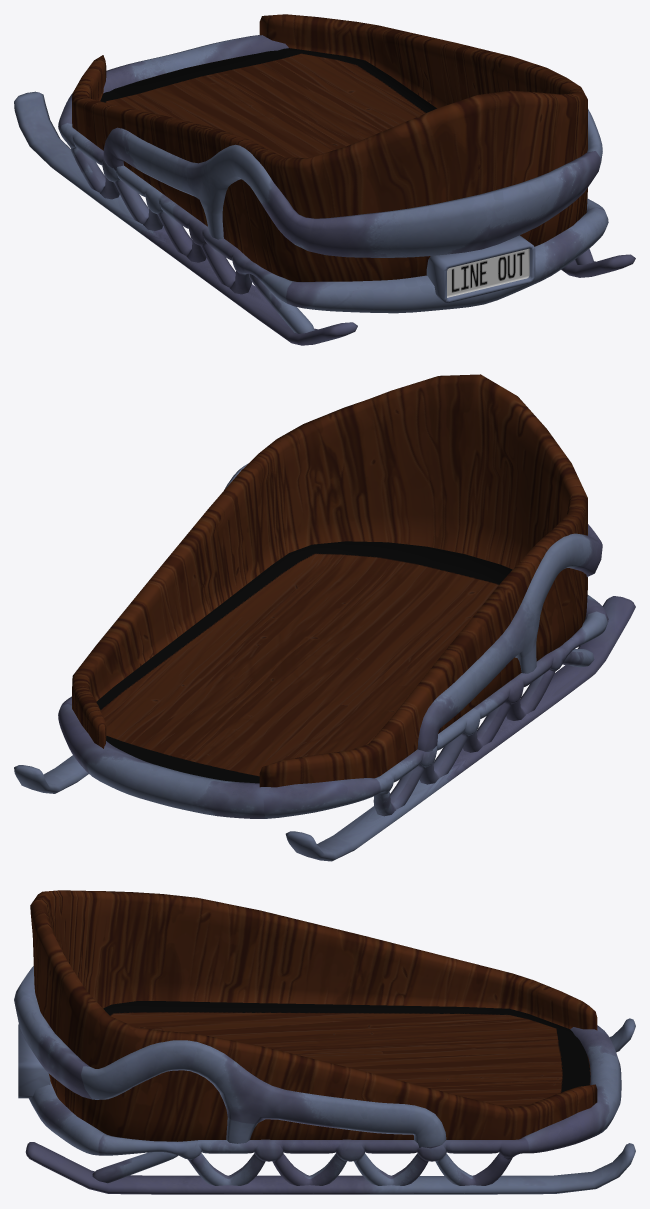
File: LineOutSled.glb
The picture shows the model from 3 angles, top to bottom: view 1: azimuth 30°, elevation 25°; view 2: azimuth 150°, elevation 25°; view 3: azimuth 270°, elevation 25°; orthographic projection. The views are drawn at different scales.
Parts seen in each view (by area): view 1: Plane, Trim1, Trim2, Treds, Cube.001; view 2: Plane, Trim2, Treds, Trim1; view 3: Plane, Trim2, Trim1, Treds, Cube.001.
Boxes of the visible parts, x1,y1,x2,y2 form: Plane: (72,14,587,281); Trim1: (103,109,602,257); Trim2: (58,35,608,333); Treds: (14,91,635,345); Cube.001: (426,235,535,303); Plane: (72,374,587,787); Trim2: (58,595,608,818); Treds: (14,596,635,861); Trim1: (224,463,602,751); Plane: (30,890,597,1141); Trim2: (29,1025,621,1185); Trim1: (14,966,446,1148); Treds: (25,1018,635,1194); Cube.001: (18,1024,50,1098).
Size of the model in its own units: 4.2 by 2.95 by 7.35.
Materials: 2 (2 with a texture image).
